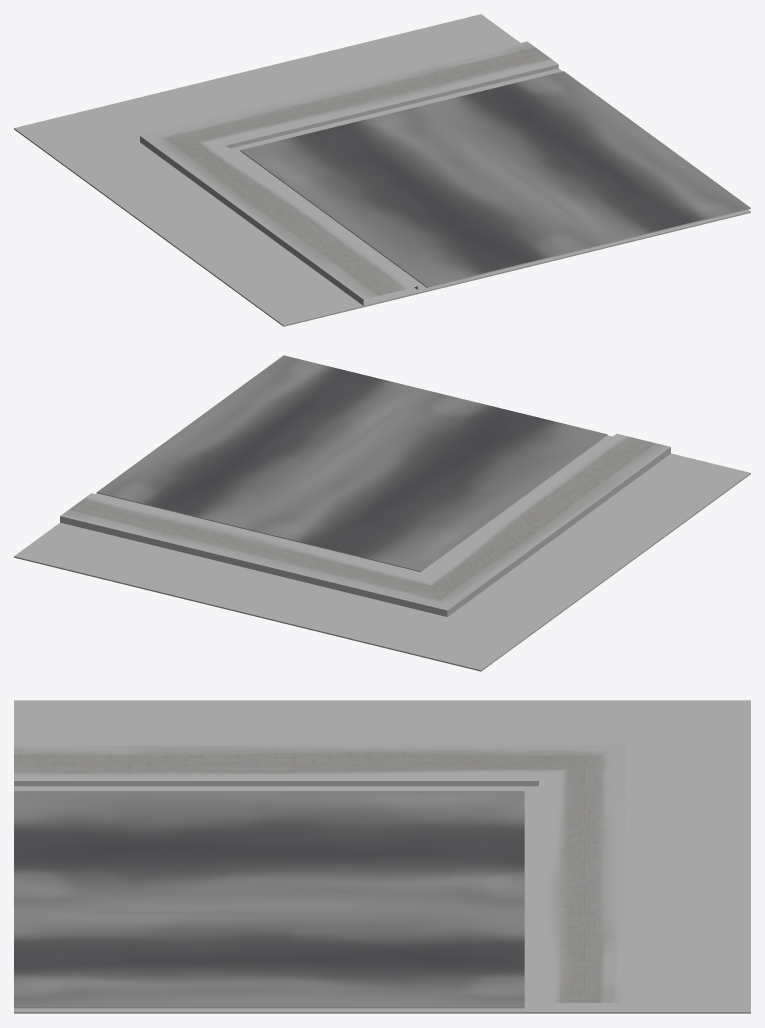
The model's file is CarPark_Cap.fbx.
3 views of the same model, one above another, from view 1: azimuth 30°, elevation 25°; view 2: azimuth 150°, elevation 25°; view 3: azimuth 270°, elevation 25° (orthographic). The views are drawn at different scales.
Visible parts, largest first — view 1: Road_10X52, Road_10X31; view 2: Road_10X52, Road_10X31; view 3: Road_10X52, Road_10X31.
Part boxes in pixels (x1,y1,x2,y2): Road_10X52: (140,41,750,305); Road_10X31: (14,14,750,326); Road_10X52: (60,355,670,616); Road_10X31: (14,453,750,671); Road_10X52: (14,744,624,1008); Road_10X31: (14,700,750,1013).
Size of the model in its own units: 1000 by 15.99 by 1000.
